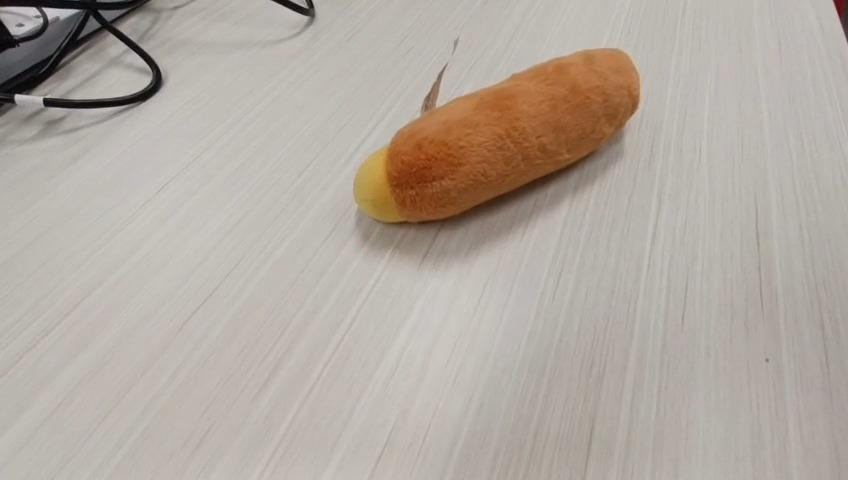hotdog: (352, 45, 641, 224)
